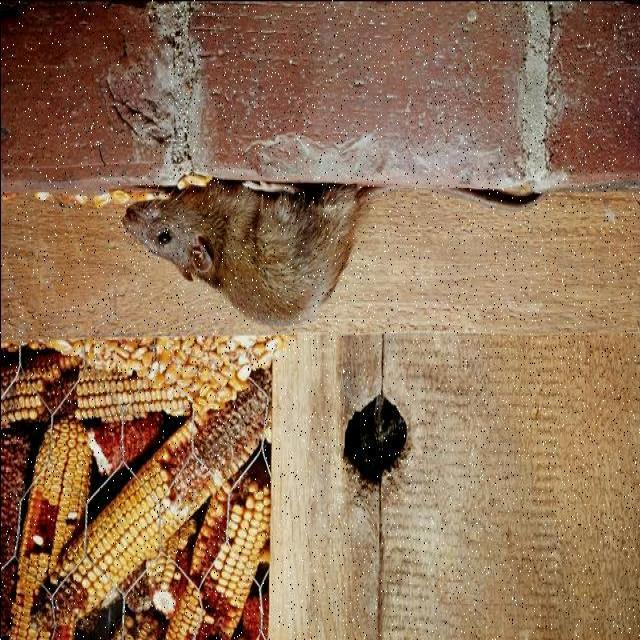rat: (123, 178, 541, 326)
